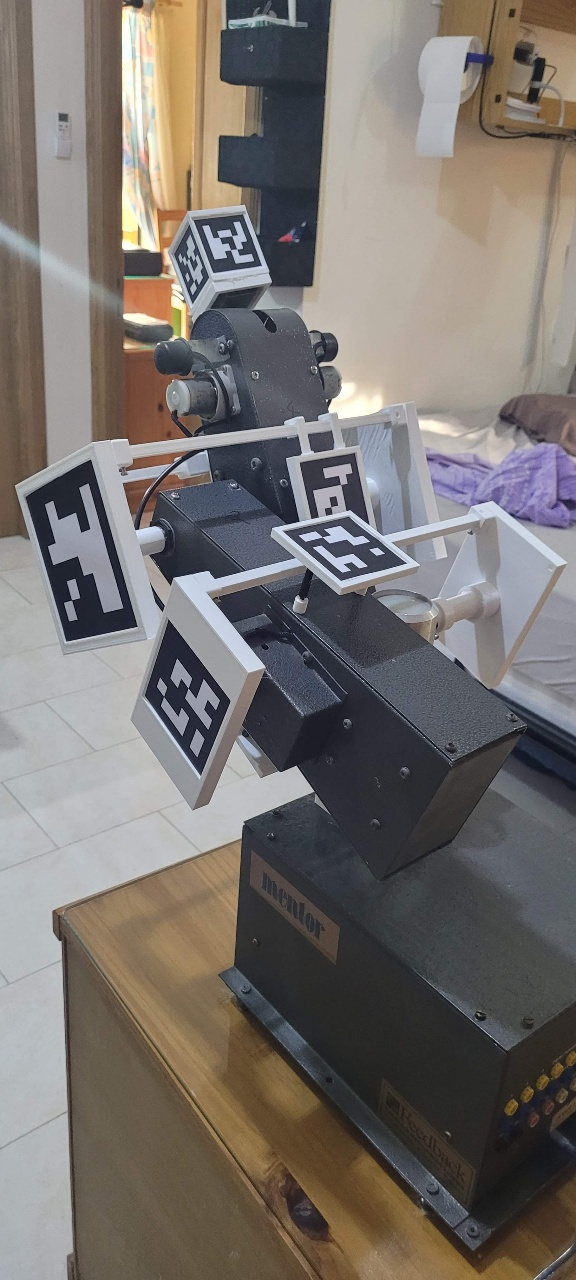Robot: (13, 202, 567, 885)
